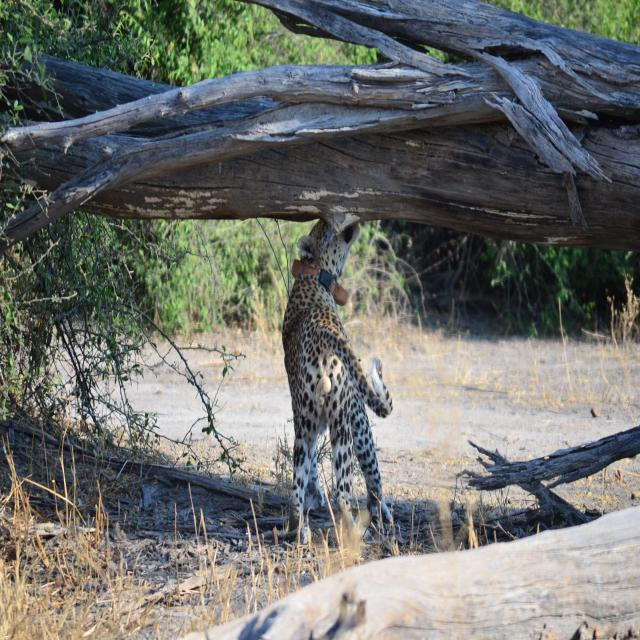Leopard: (275, 226, 400, 544)
